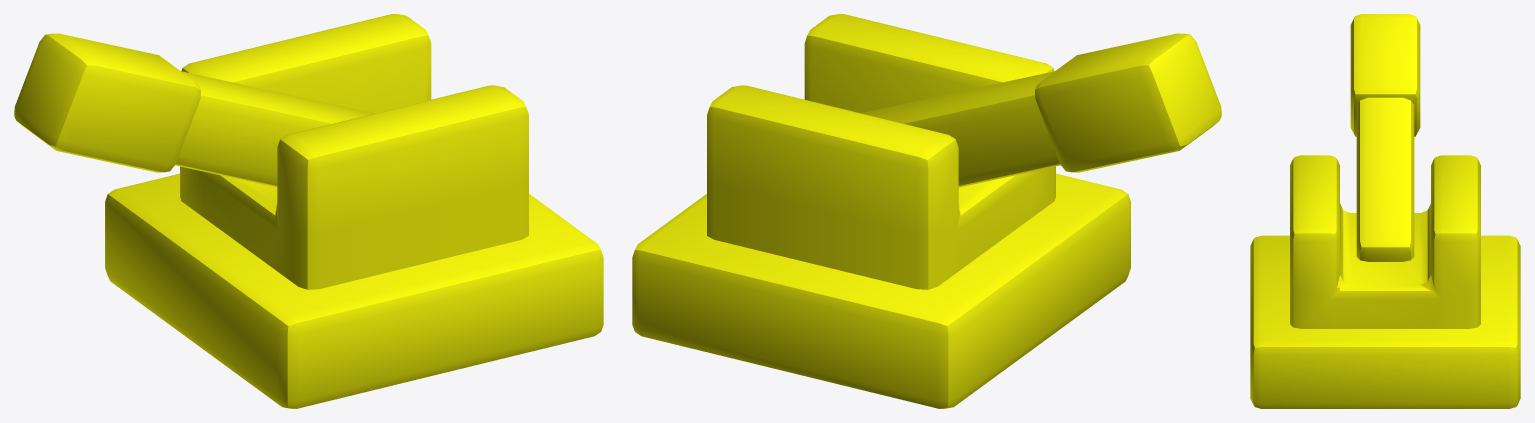
The model's file is Lever_Left.glb.
3 views of the same model, side by side, from view 1: azimuth 30°, elevation 25°; view 2: azimuth 150°, elevation 25°; view 3: azimuth 270°, elevation 25° (orthographic). The views are drawn at different scales.
Visible parts, largest first — view 1: Lever_Left; view 2: Lever_Left; view 3: Lever_Left.
Part boxes in pixels (x1,y1,x2,y2): Lever_Left: (14, 14, 603, 408); Lever_Left: (632, 14, 1221, 408); Lever_Left: (1250, 14, 1520, 408).
Bounding box in the file's own units: 1.97 × 1.3 × 1.32.
1 material, 1 textured.
